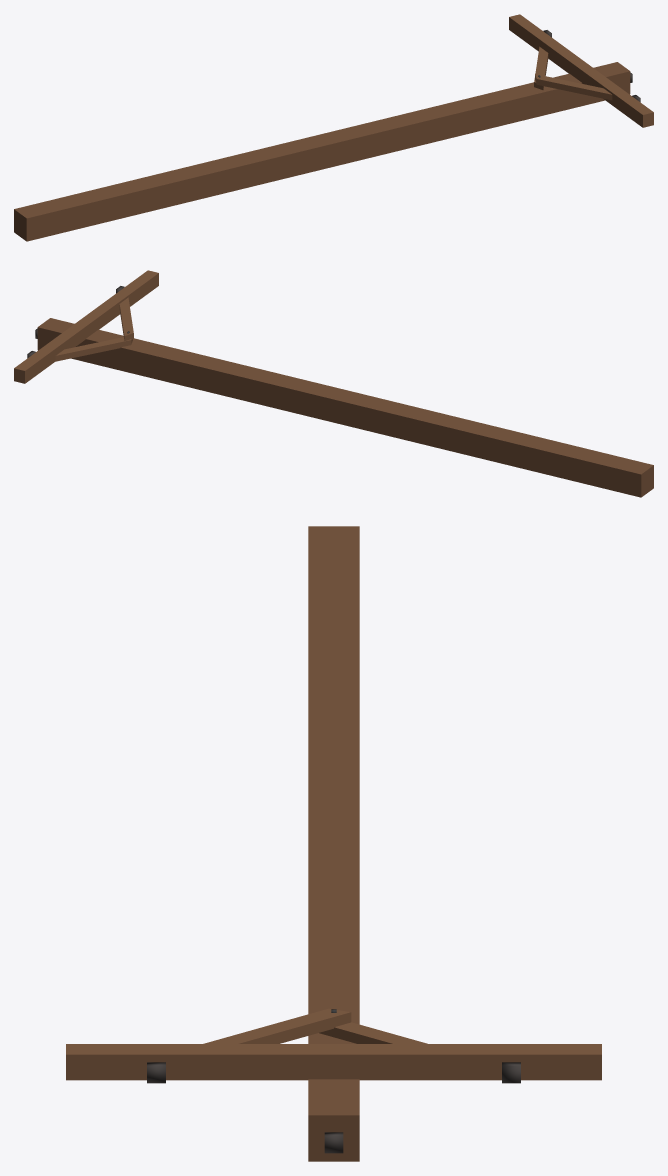
The model's file is PowerLineBroke.fbx.
The picture shows the model from 3 angles, top to bottom: view 1: azimuth 30°, elevation 25°; view 2: azimuth 150°, elevation 25°; view 3: azimuth 270°, elevation 25°; orthographic projection. The views are drawn at different scales.
Parts seen in each view (by area): view 1: PowerLine_fracturepart8, PowerLine_fracturepart15, PowerLine_fracturepart14, PowerLine_fracturepart3, PowerLine_fracturepart13, PowerLine_fracturepart6, PowerLine_fracturepart1_3, PowerLine_fracturepart2, PowerLine_fracturepart7, PowerLine_fracturepart4, PowerLine_fracturepart5_2, PowerLine_fracturepart11 (+4 smaller); view 2: PowerLine_fracturepart8, PowerLine_fracturepart15, PowerLine_fracturepart14, PowerLine_fracturepart3, PowerLine_fracturepart13, PowerLine_fracturepart7, PowerLine_fracturepart6, PowerLine_fracturepart2, PowerLine_fracturepart1_3, PowerLine_fracturepart5_2, PowerLine_fracturepart4, PowerLine_fracturepart11 (+5 smaller); view 3: PowerLine_fracturepart1_3, PowerLine_fracturepart8, PowerLine_fracturepart5_2, PowerLine_fracturepart15, PowerLine_fracturepart11, PowerLine_fracturepart14, PowerLine_fracturepart3, PowerLine_fracturepart13, PowerLine_fracturepart9_3, PowerLine_fracturepart6, PowerLine_fracturepart4_2, PowerLine_fracturepart2 (+3 smaller).
Part boxes in pixels (x1,y1,x2,y2): PowerLine_fracturepart8: (368, 95, 489, 153); PowerLine_fracturepart15: (14, 187, 115, 236); PowerLine_fracturepart14: (310, 123, 386, 171); PowerLine_fracturepart3: (104, 172, 175, 219); PowerLine_fracturepart13: (208, 147, 280, 193); PowerLine_fracturepart6: (165, 162, 222, 205); PowerLine_fracturepart1_3: (575, 69, 653, 127); PowerLine_fracturepart2: (266, 137, 314, 180); PowerLine_fracturepart7: (480, 91, 562, 128); PowerLine_fracturepart4: (485, 82, 562, 107); PowerLine_fracturepart5_2: (509, 14, 558, 51); PowerLine_fracturepart11: (593, 62, 630, 102); PowerLine_fracturepart8: (175, 352, 296, 410); PowerLine_fracturepart15: (551, 443, 653, 489); PowerLine_fracturepart14: (285, 378, 365, 425); PowerLine_fracturepart3: (490, 429, 564, 475); PowerLine_fracturepart13: (389, 403, 459, 449); PowerLine_fracturepart7: (99, 350, 181, 384); PowerLine_fracturepart6: (445, 418, 504, 461); PowerLine_fracturepart2: (345, 395, 399, 437); PowerLine_fracturepart1_3: (91, 270, 158, 334); PowerLine_fracturepart5_2: (14, 340, 61, 383); PowerLine_fracturepart4: (106, 334, 190, 356); PowerLine_fracturepart11: (37, 318, 86, 361); PowerLine_fracturepart1_3: (66, 1044, 316, 1080); PowerLine_fracturepart8: (308, 871, 359, 981); PowerLine_fracturepart5_2: (447, 1044, 601, 1080); PowerLine_fracturepart15: (308, 526, 359, 613); PowerLine_fracturepart11: (308, 1079, 359, 1161); PowerLine_fracturepart14: (308, 807, 359, 874); PowerLine_fracturepart3: (308, 613, 359, 673); PowerLine_fracturepart13: (308, 715, 359, 773); PowerLine_fracturepart9_3: (308, 1044, 418, 1080); PowerLine_fracturepart6: (308, 671, 359, 714); PowerLine_fracturepart4_2: (220, 1008, 351, 1043); PowerLine_fracturepart2: (308, 772, 359, 814).
Bounding box in the file's own units: 826 × 45.88 × 314.
Materials: 1 (1 with a texture image).
